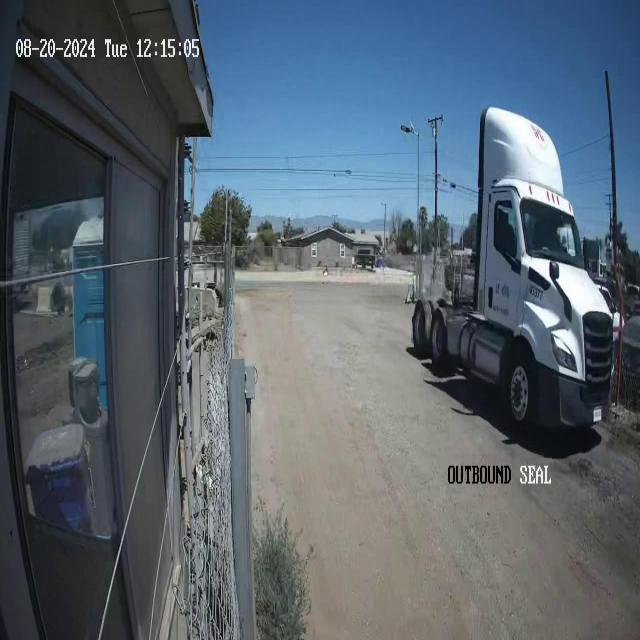TRUCK_IN: (411, 104, 615, 434)
